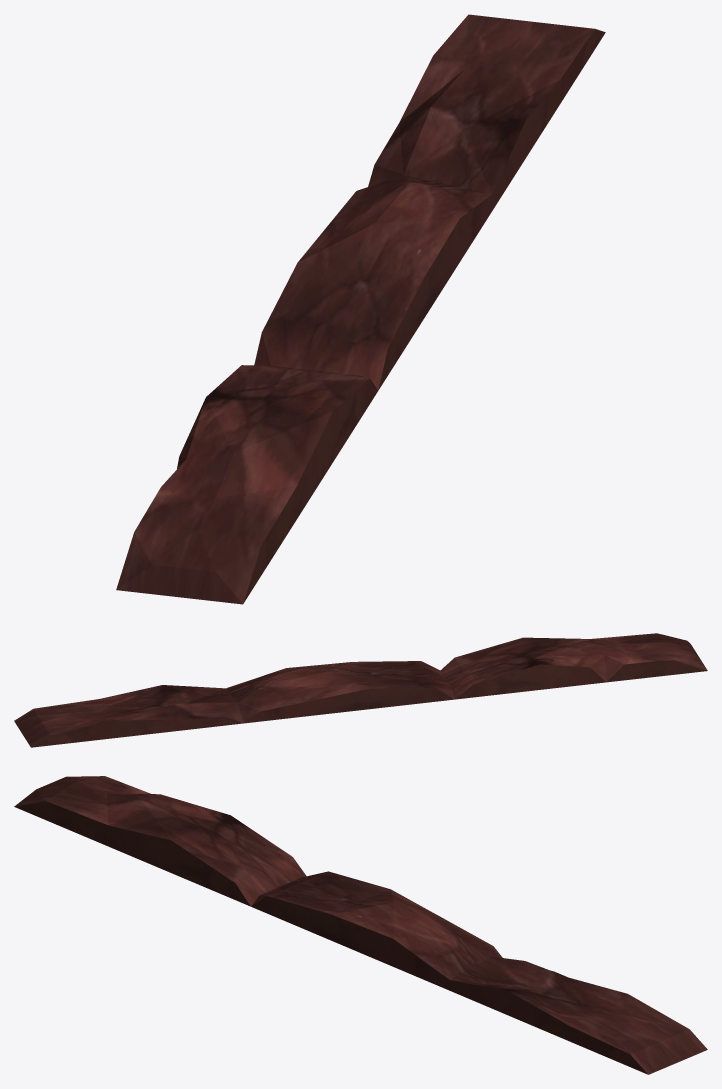
The model's file is lava_broken_diagonal_02.fbx.
3 renders of one model, top to bottom at view 1: azimuth 30°, elevation 25°; view 2: azimuth 150°, elevation 25°; view 3: azimuth 270°, elevation 25°, orthographic. The views are drawn at different scales.
Parts seen in each view (by area): view 1: lava_broken_diagonal_02-0; view 2: lava_broken_diagonal_02-0; view 3: lava_broken_diagonal_02-0.
Boxes of the visible parts, x1,y1,x2,y2 form: lava_broken_diagonal_02-0: (116, 14, 605, 604); lava_broken_diagonal_02-0: (14, 633, 707, 747); lava_broken_diagonal_02-0: (14, 776, 707, 1074).
Bounding box in the file's own units: 4.38 × 0.2624 × 4.38.
